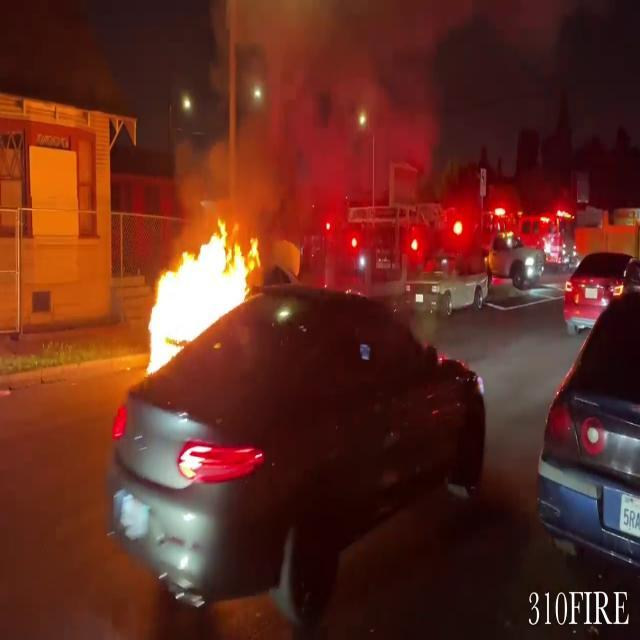Fire: (142, 210, 263, 372)
Smoke: (188, 0, 446, 232)
